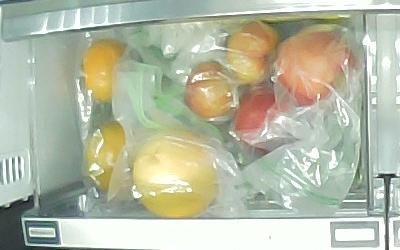apple_vinyl: (276, 29, 358, 107), (233, 90, 298, 148)
grapefruit_vinyl: (133, 128, 218, 219)
persimmon_vinyl: (84, 120, 127, 193), (83, 39, 129, 103)
prune_vinyl: (227, 21, 280, 86), (185, 62, 240, 124)
